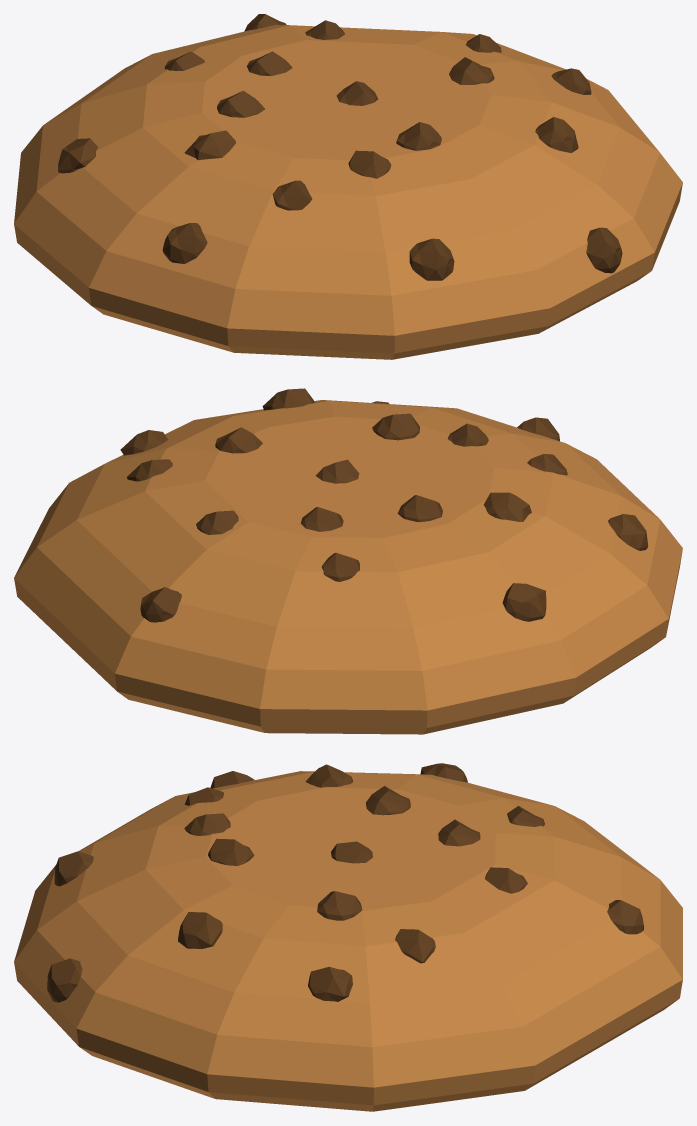
File: rawMilkCookie.fbx
The picture shows the model from 3 angles, top to bottom: view 1: azimuth 30°, elevation 25°; view 2: azimuth 150°, elevation 25°; view 3: azimuth 270°, elevation 25°; orthographic projection.
Parts seen in each view (by area): view 1: Icosphere; view 2: Icosphere; view 3: Icosphere.
Part boxes in pixels (x1,y1,x2,y2): Icosphere: (14, 14, 682, 359); Icosphere: (14, 388, 682, 734); Icosphere: (14, 763, 682, 1111).
Size of the model in its own units: 58.12 by 14.4 by 57.55.
